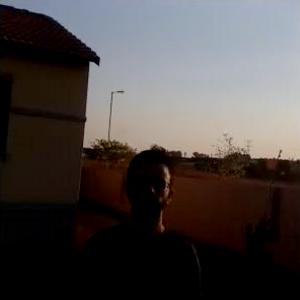follow: (66, 140, 204, 299)
